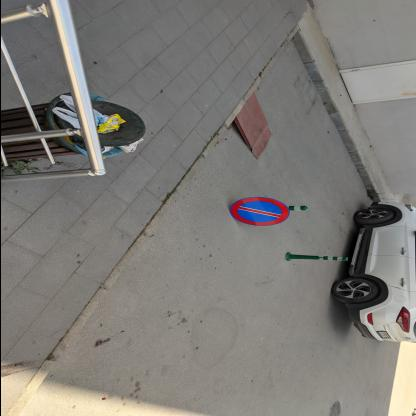No Waiting: (230, 198, 290, 227)
